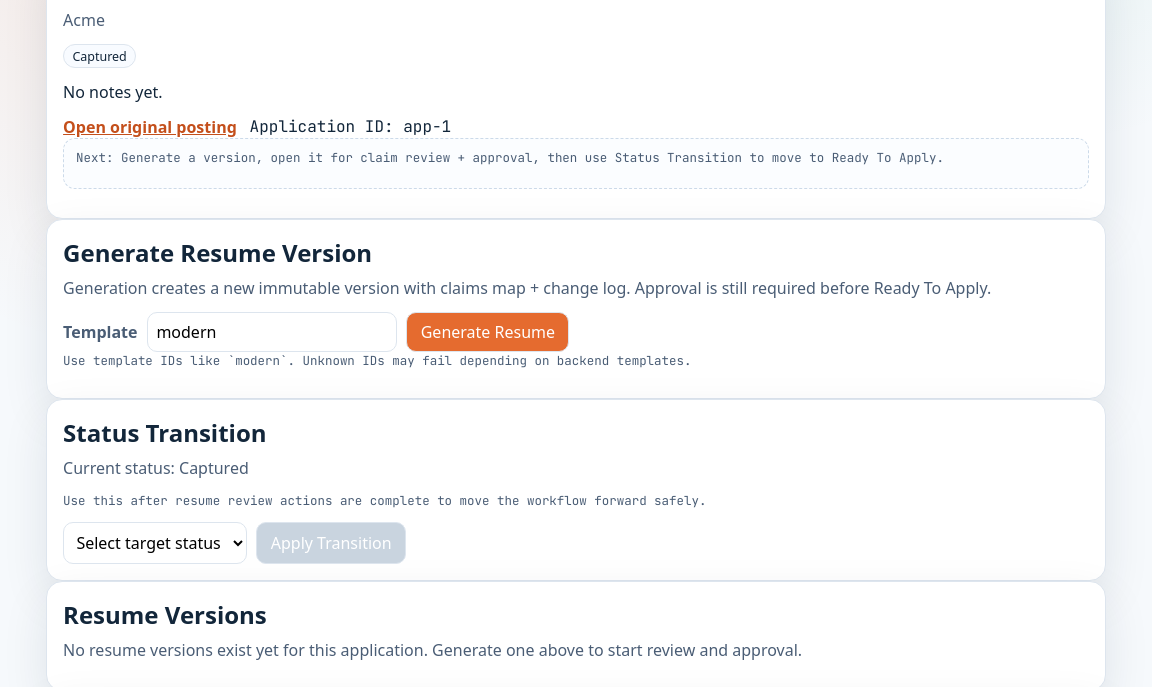
Scenario: ApplicationDetailPage › runs generate flow and exposes audit export
The width and height of the screenshot is (1152, 687).
(page scrolled)
Click the button "Generate Resume" at (488, 332), box x1=406 y1=312 x2=570 y2=352
(page scrolled)
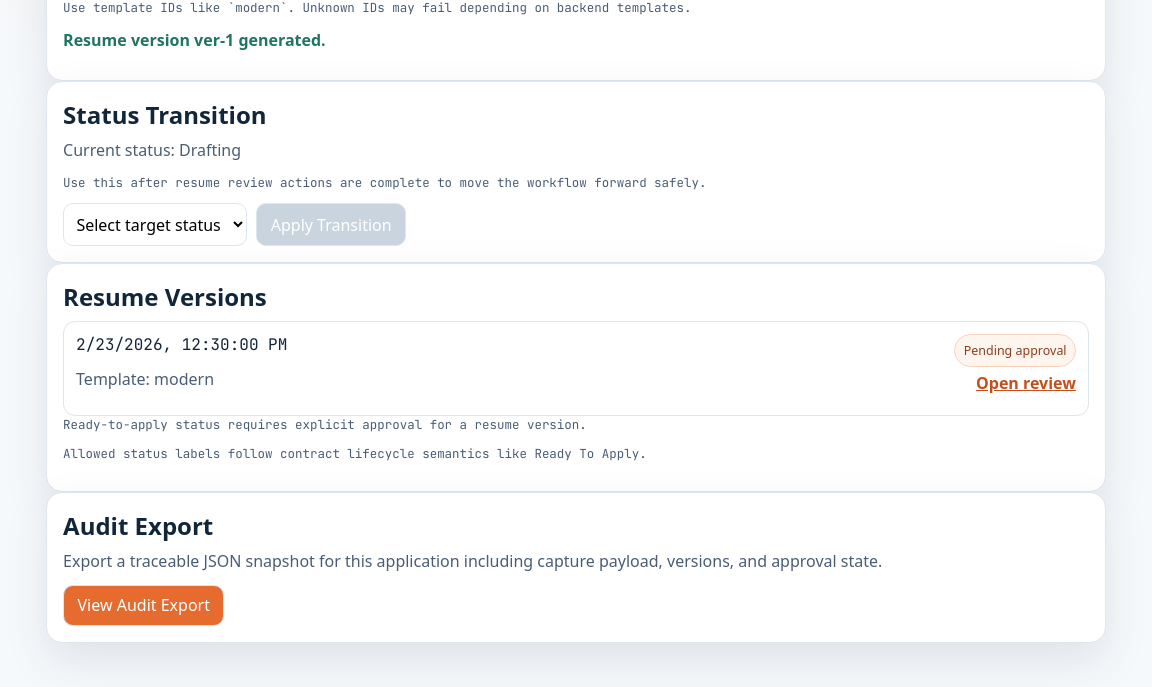
Expected: the text "Resume version ver-1 generated." is shown, x1=63 y1=29 x2=326 y2=51
Expected: the link "Open review" is shown, x1=976 y1=372 x2=1076 y2=403
Click the button "View Audit Export" at (144, 605), box x1=63 y1=585 x2=224 y2=626
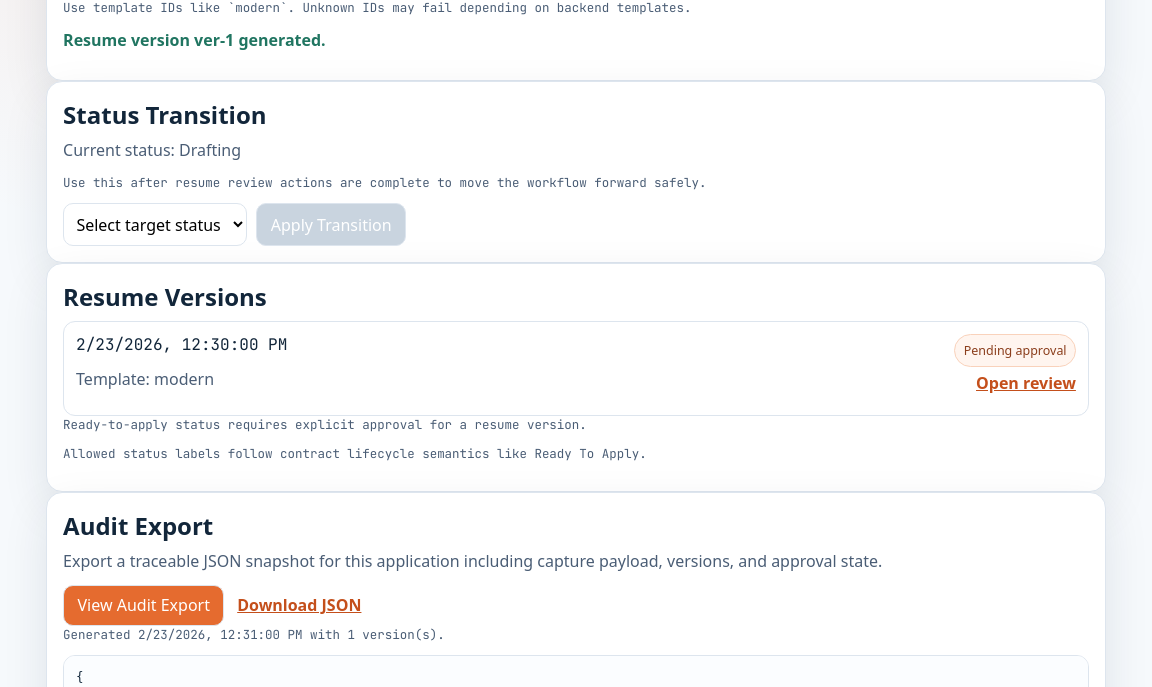
Expected: the text "Generated 2/23/2026, 12:31:00 PM with 1 version(s)." is shown, x1=63 y1=626 x2=445 y2=643
Expected: the link "Download JSON" is shown, x1=237 y1=594 x2=361 y2=616
